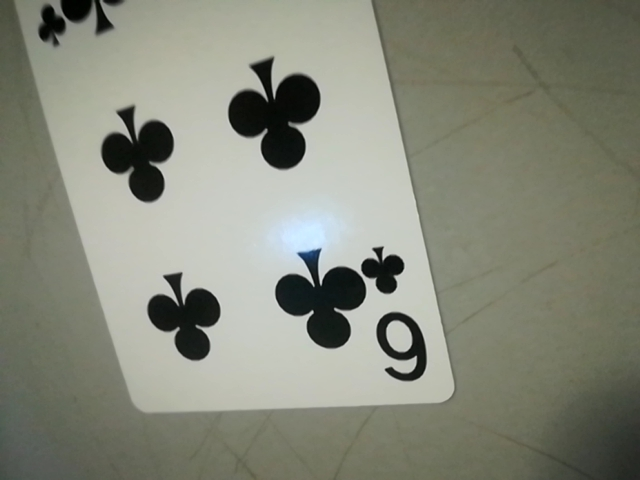mh 6: (357, 237, 435, 396)
